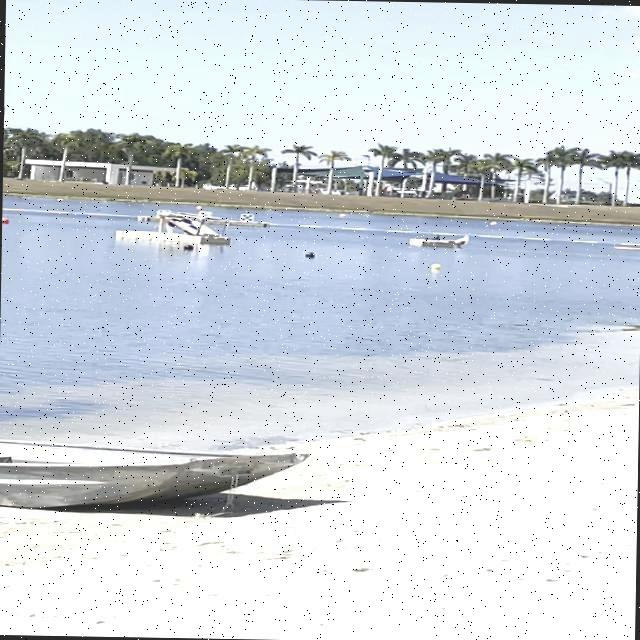buoy: (429, 262, 444, 270), (182, 244, 195, 252), (304, 252, 316, 258)
